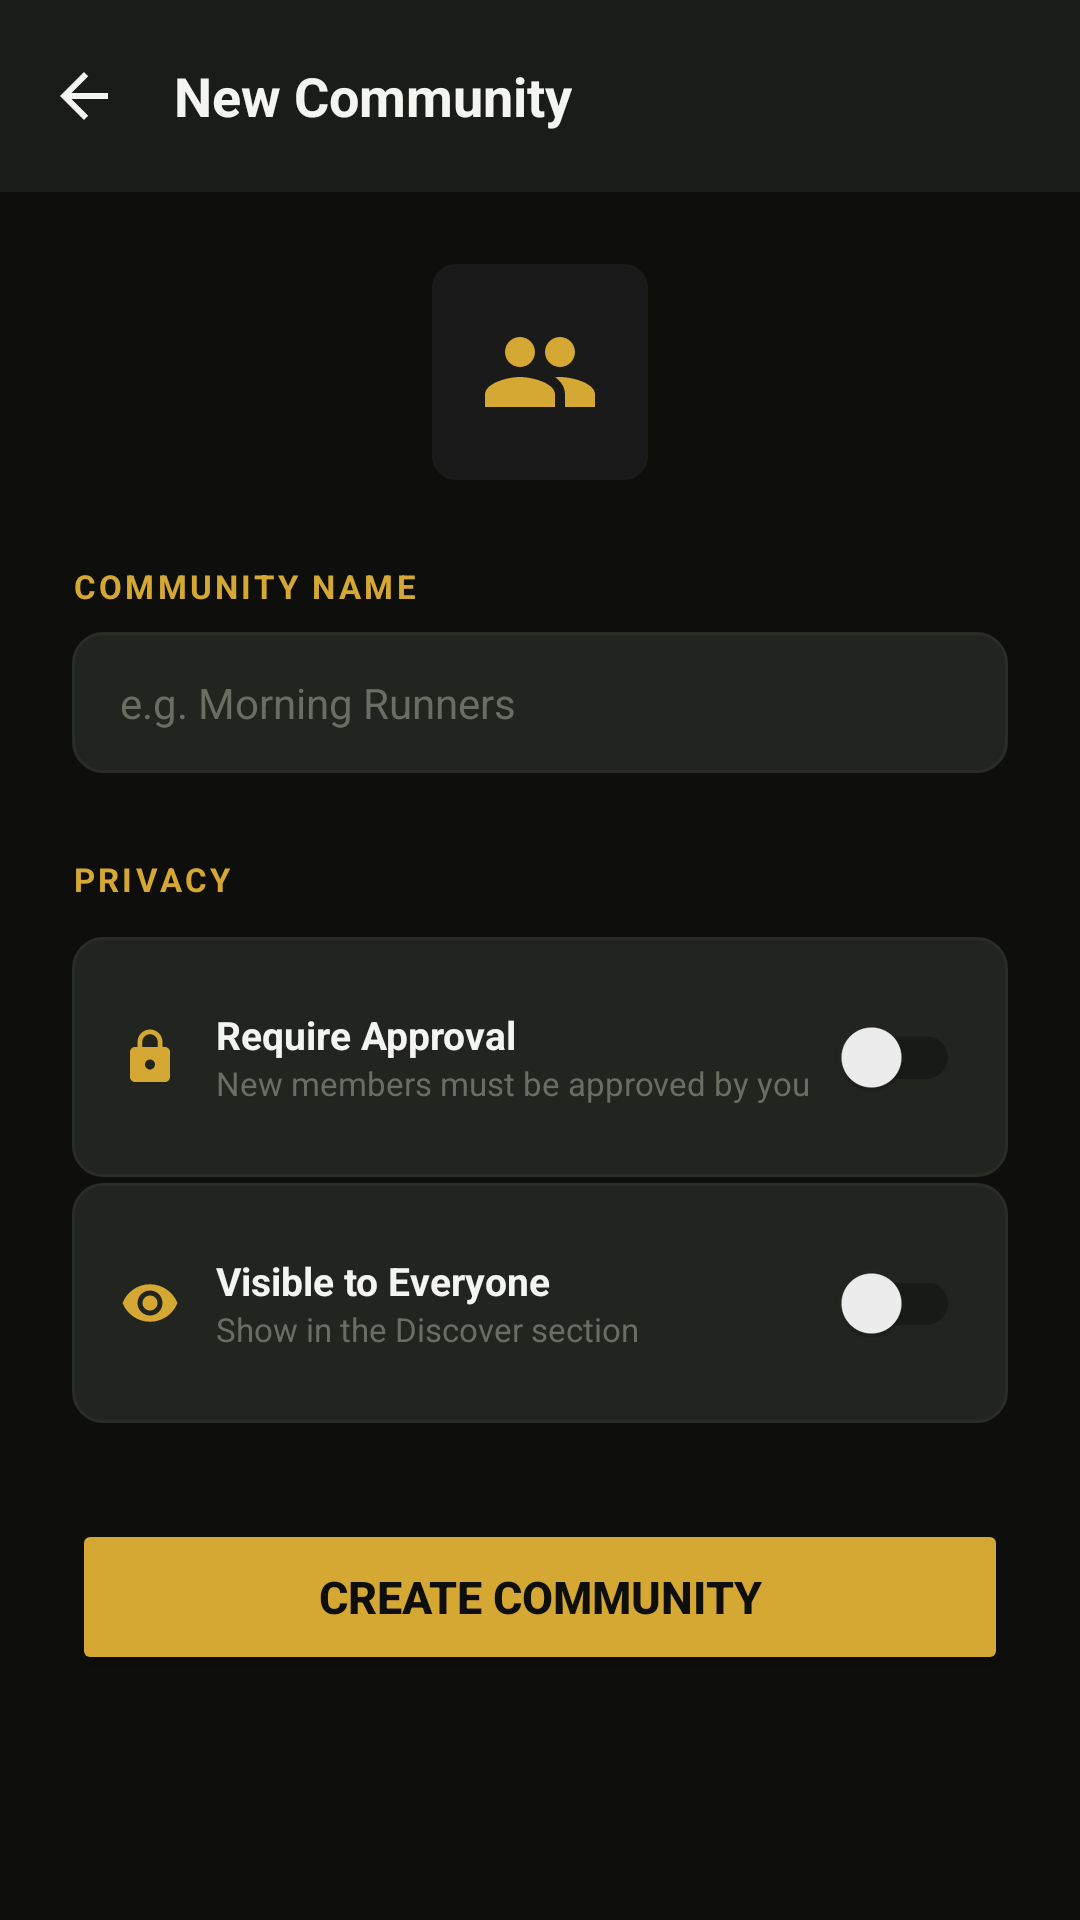

Locate icon controls on the screen. Image size 1080px×1920px, boxes as (x1,y1,x2,y2).
Back: (60,72,108,120)
Lock: (130,1029,170,1082)
